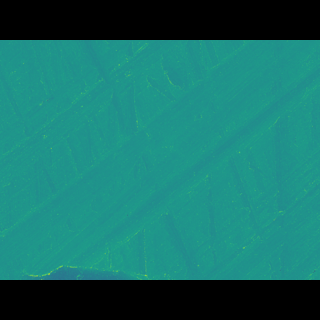Loch: (0, 70, 320, 249)
